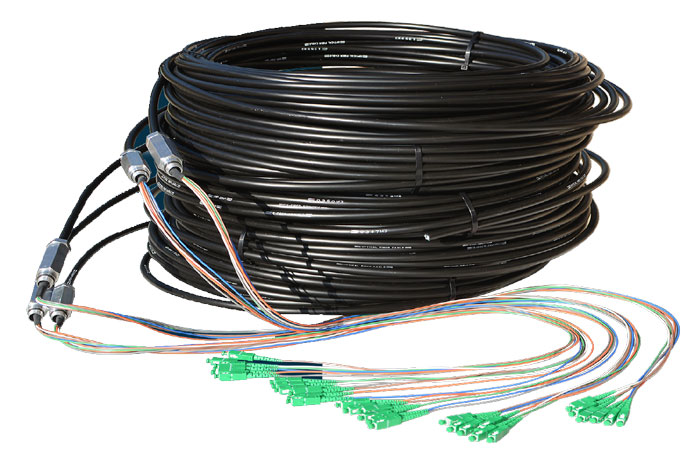Nonrec_Tangler: (32, 8, 655, 413)
